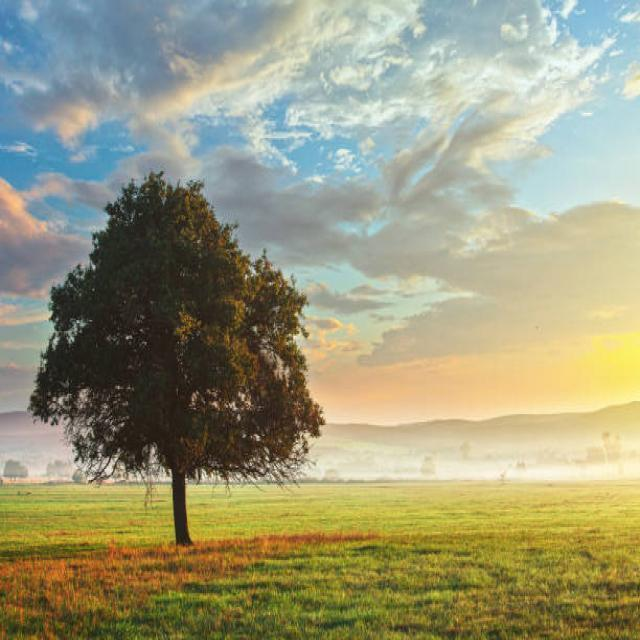tree: (32, 162, 312, 546)
